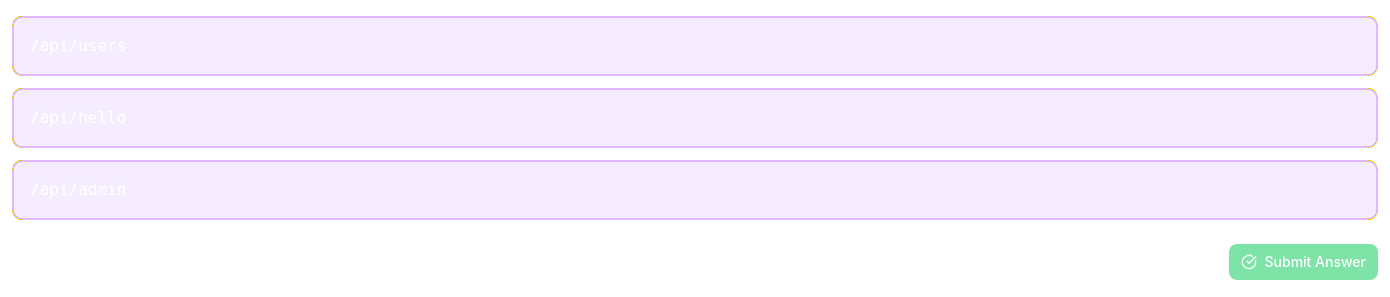
Scenario: PickEndpoint › submission › enables submit button when option selected
Click the button "/api/hello".
click(78, 118)  # box [12,88,1378,148]
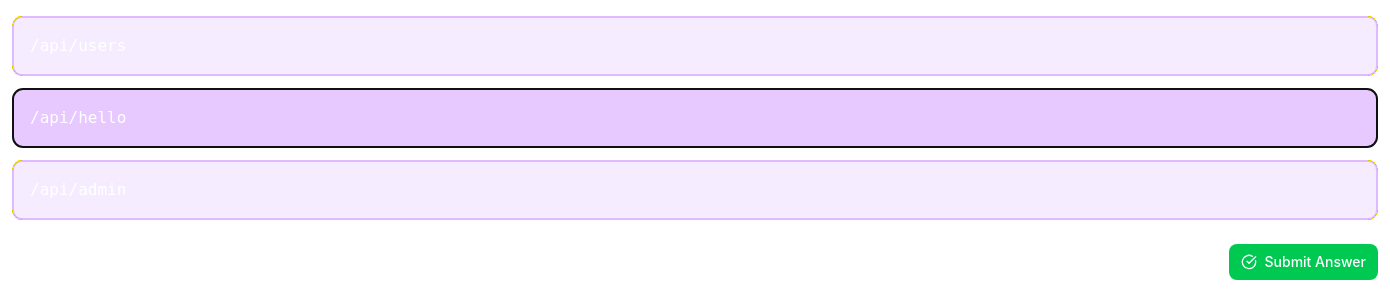
Now the button "Submit Answer" is enabled, box [1228,244,1378,280]
